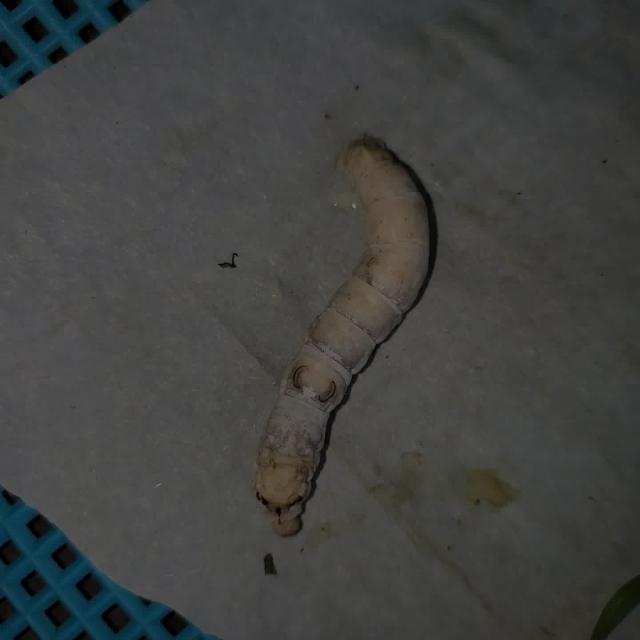Grasserie: (242, 107, 448, 579)
